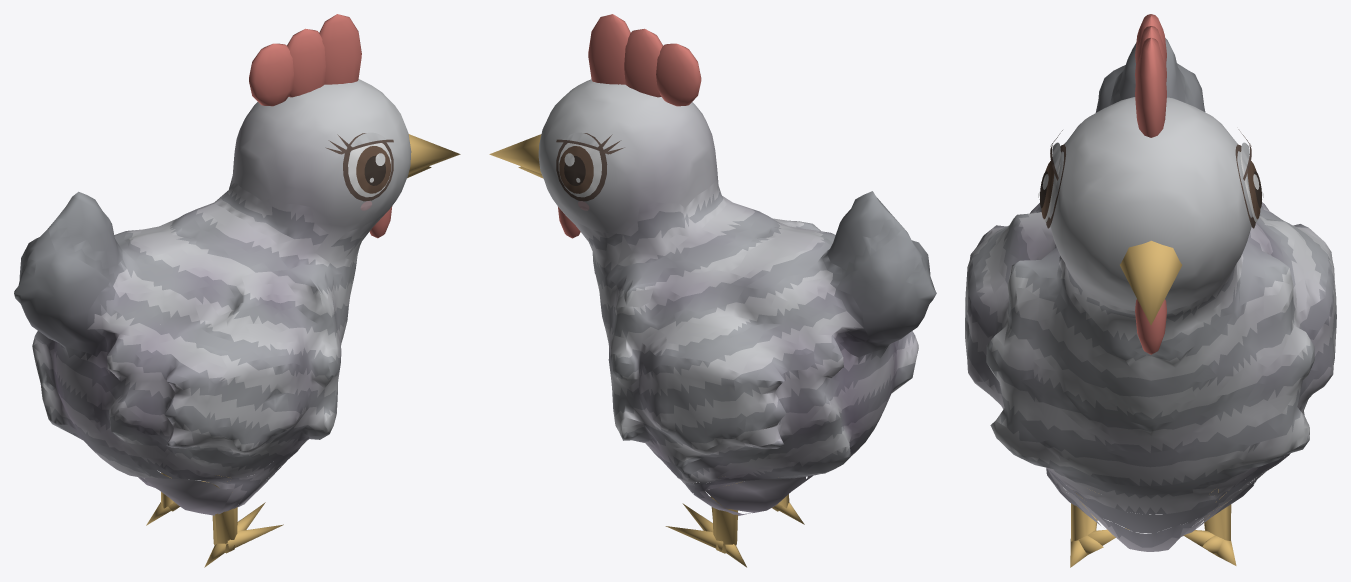
File: grey_chicken.glb
3 renders of one model, left to right at view 1: azimuth 30°, elevation 25°; view 2: azimuth 150°, elevation 25°; view 3: azimuth 270°, elevation 25°, orthographic. The views are drawn at different scales.
Visible parts, largest first — view 1: grey_chicken; view 2: grey_chicken; view 3: grey_chicken.
Part boxes in pixels (x1=…): grey_chicken: x1=14, y1=14, x2=460, y2=567; grey_chicken: x1=489, y1=14, x2=936, y2=567; grey_chicken: x1=965, y1=14, x2=1336, y2=567.
Bounding box in the file's own units: 0.5326 × 0.5611 × 0.3072.
